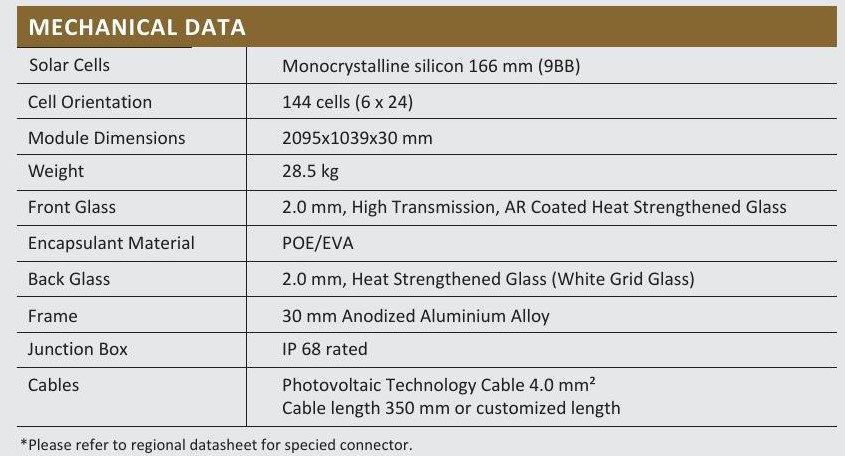table: (4, 40, 845, 440)
table column: (251, 44, 838, 433), (21, 46, 243, 433)
table row: (18, 371, 841, 424), (18, 121, 837, 153), (18, 192, 837, 224), (19, 228, 839, 259), (17, 300, 840, 330), (17, 336, 840, 366), (18, 264, 839, 294), (18, 86, 837, 116), (19, 158, 837, 188), (18, 51, 836, 80)
table spanning cell: (253, 374, 836, 422), (24, 374, 241, 425)
